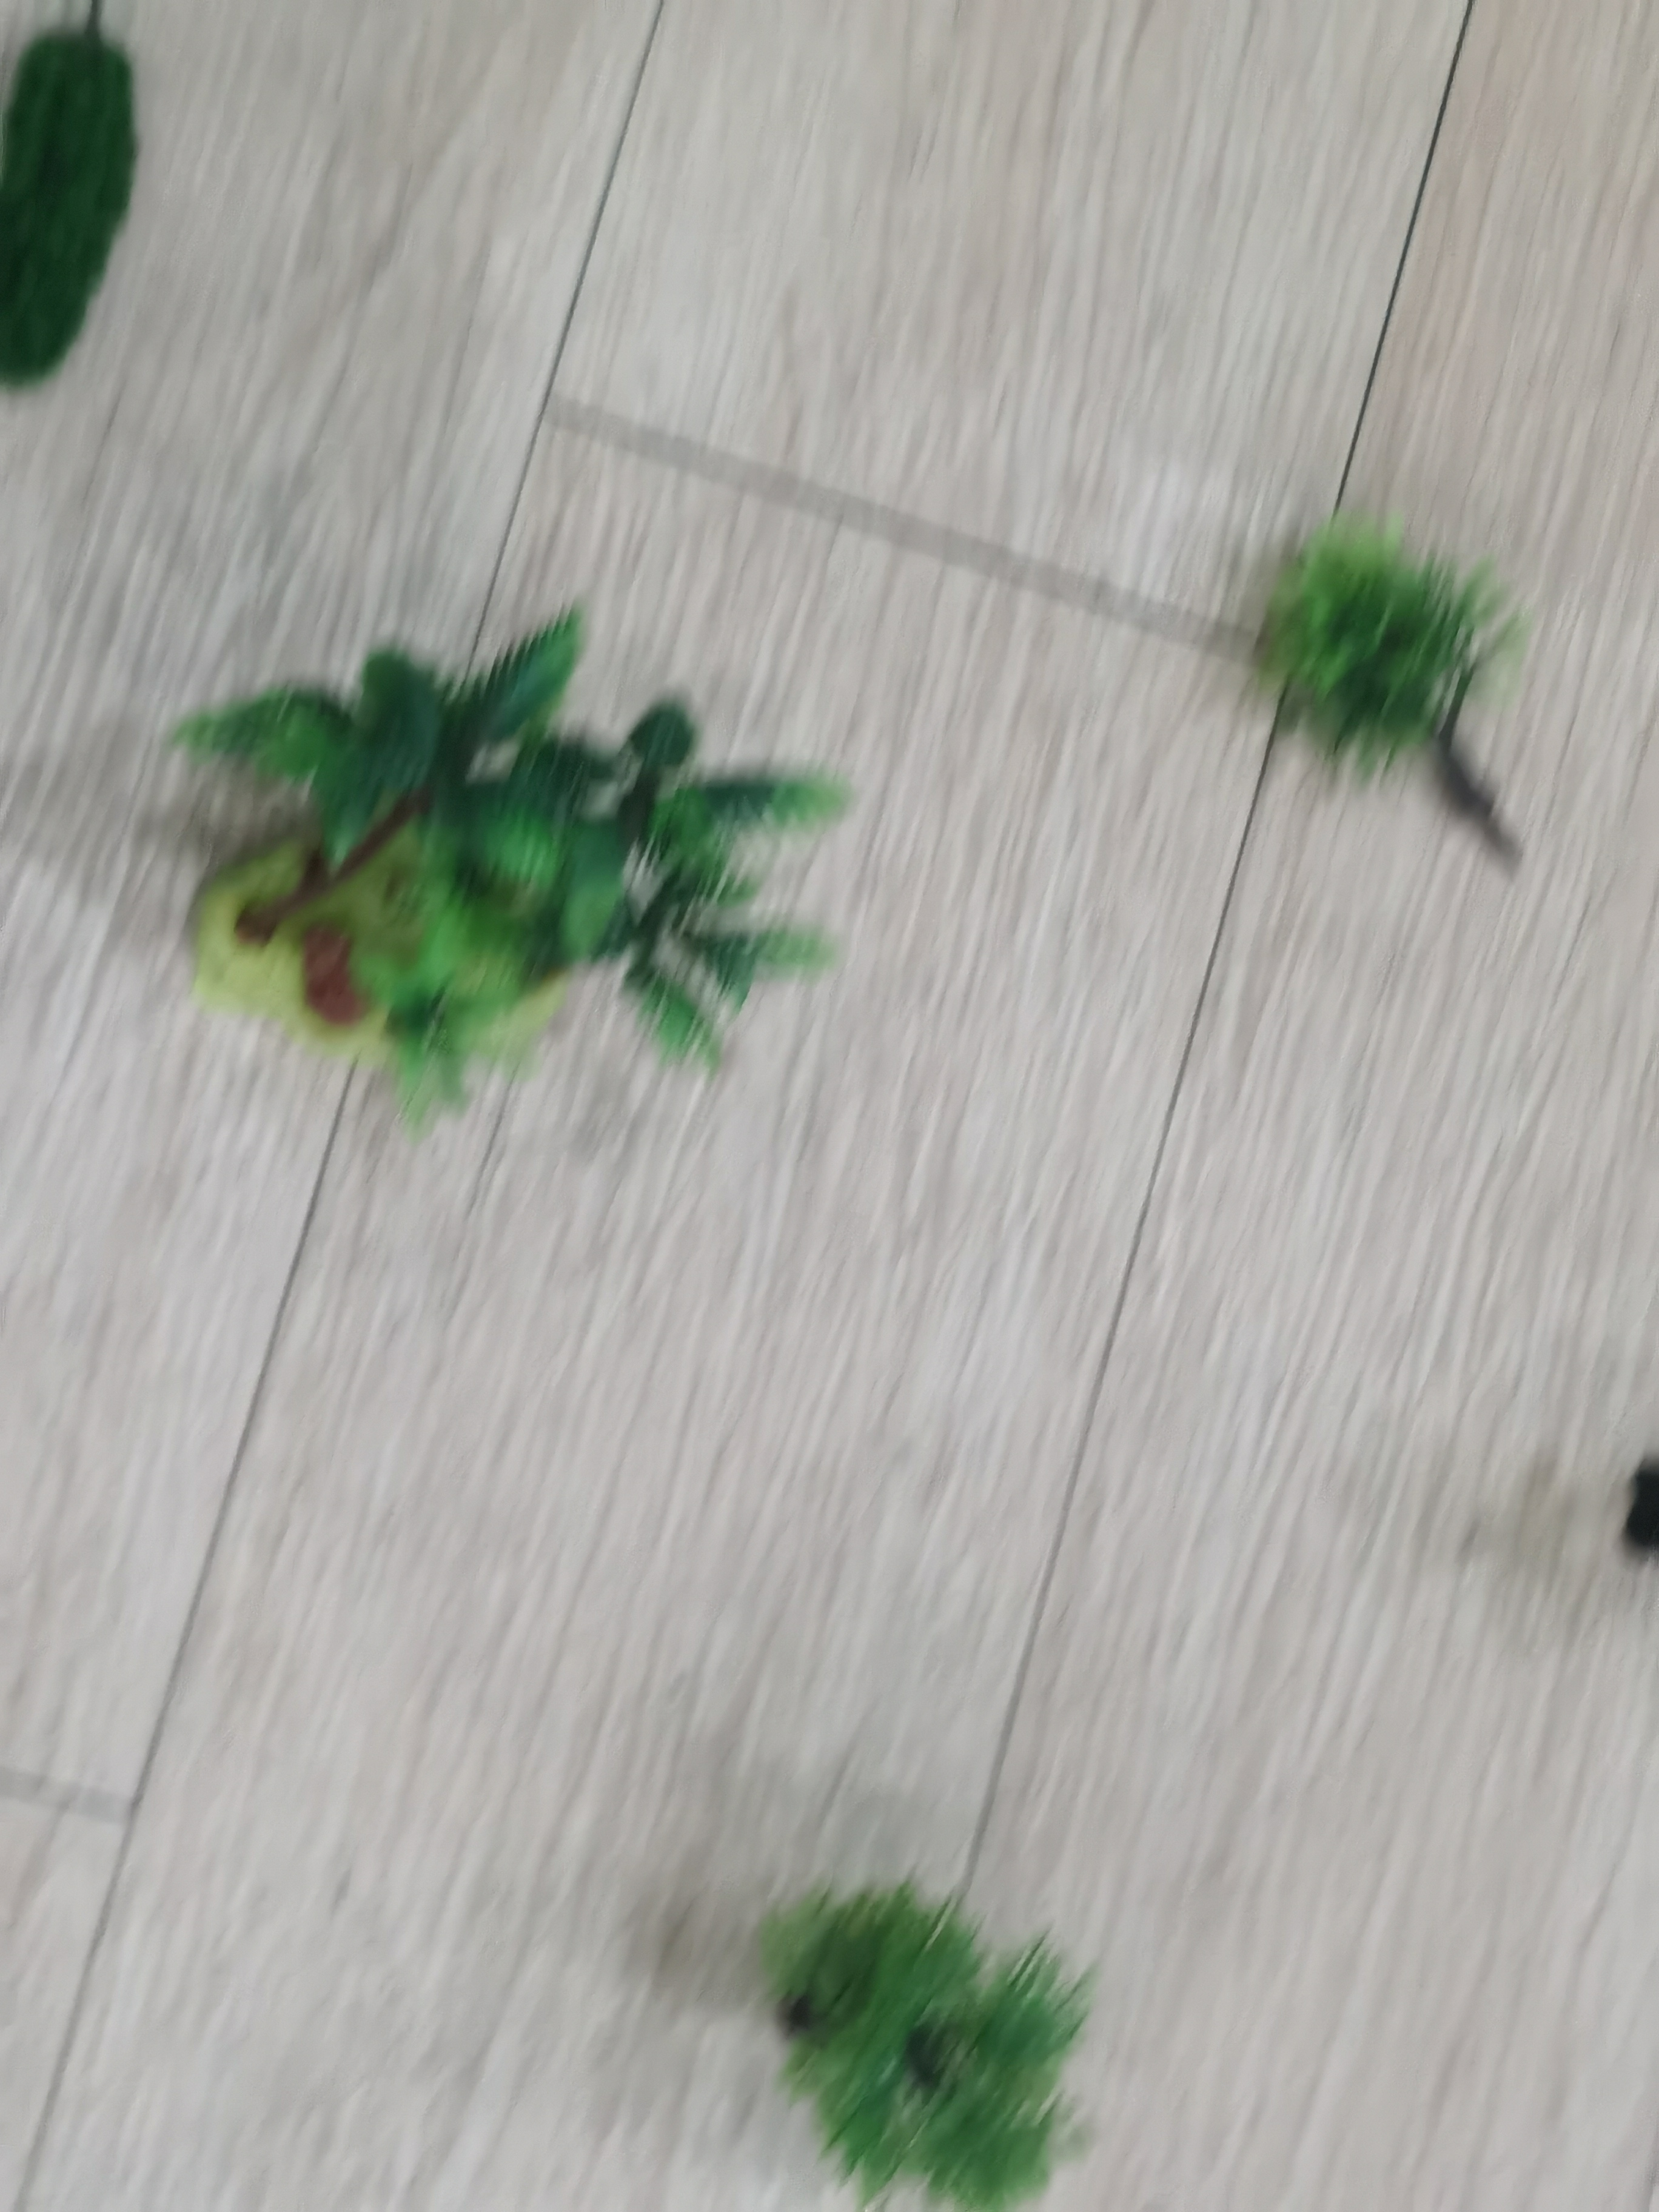corn: (166, 592, 868, 1113)
